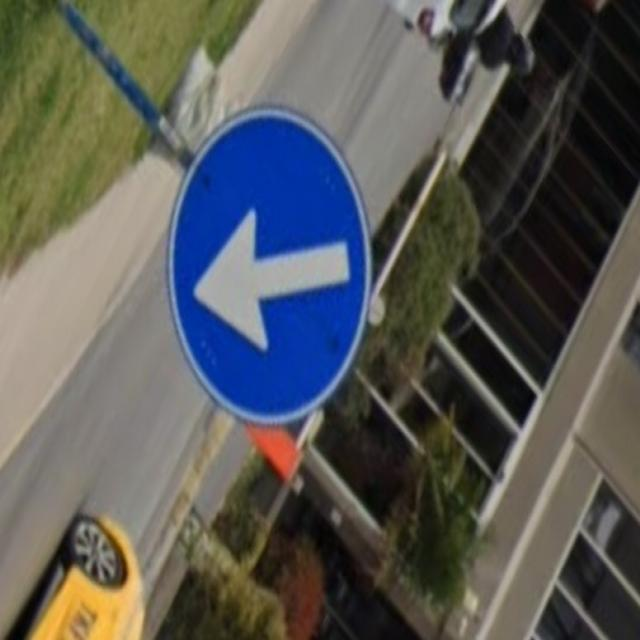Turn Left: (166, 103, 370, 420)
